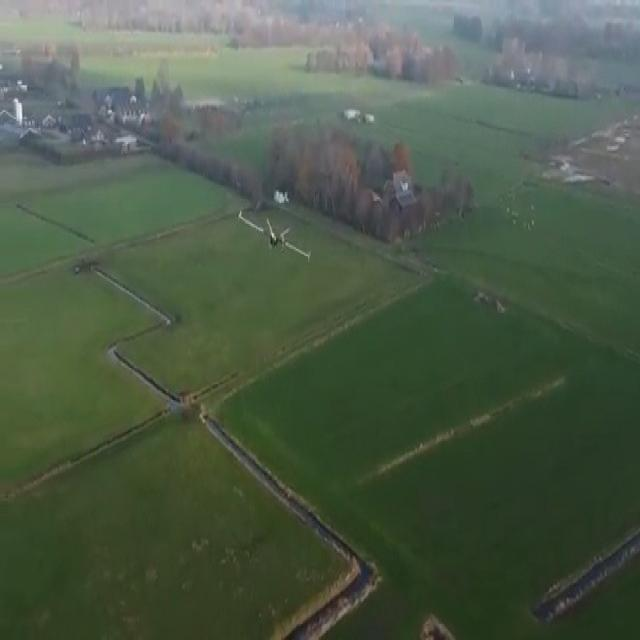drones: (236, 184, 317, 274)
